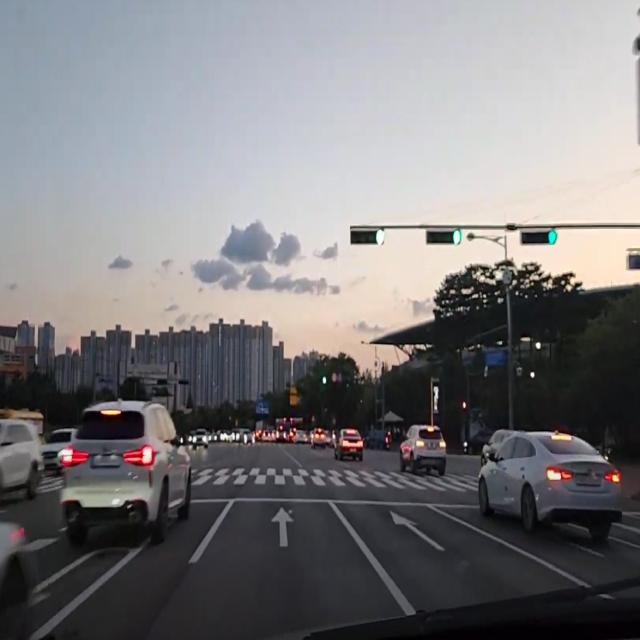Green Light: (374, 228, 384, 246), (451, 229, 461, 245), (548, 228, 557, 245)
